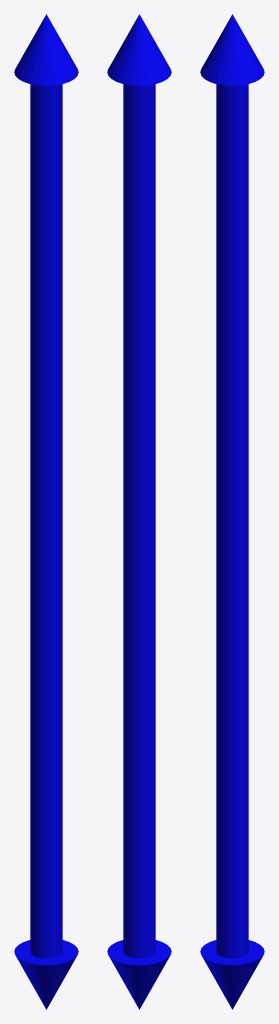
The model's file is blue.dae.
The picture shows the model from 3 angles, left to right: view 1: azimuth 90°, elevation 25°; view 2: azimuth 150°, elevation 25°; view 3: azimuth 270°, elevation 25°; orthographic projection.
Parts seen in each view (by area): view 1: SketchUp, group_0, group_1; view 2: SketchUp, group_0, group_1; view 3: SketchUp, group_0, group_1.
Boxes of the visible parts, x1,y1,x2,y2 form: SketchUp: [30, 84, 62, 958]; group_0: [14, 14, 78, 85]; group_1: [14, 940, 78, 1009]; SketchUp: [123, 84, 155, 958]; group_0: [107, 14, 171, 85]; group_1: [107, 940, 171, 1009]; SketchUp: [216, 84, 248, 958]; group_0: [200, 14, 264, 85]; group_1: [200, 940, 264, 1009].
Bounding box in the file's own units: 15.75 × 15.75 × 268.
